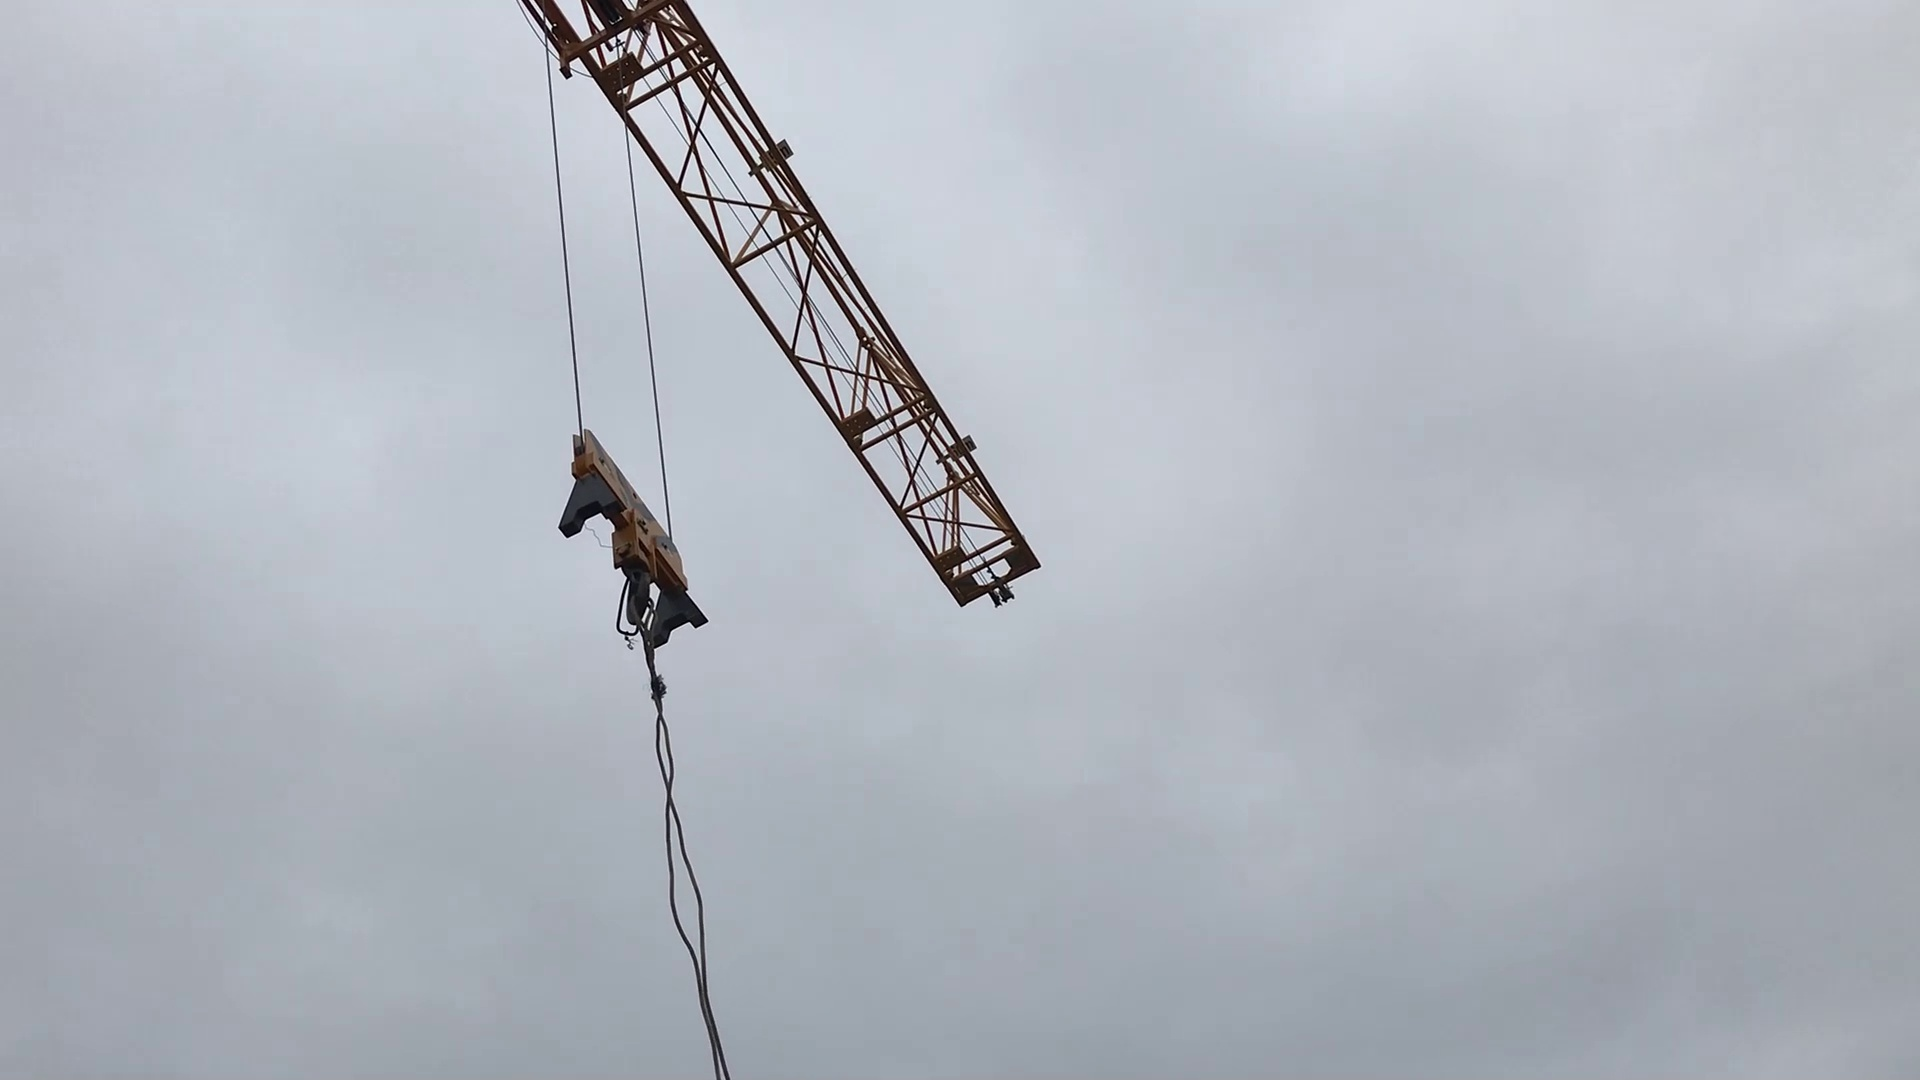hook: (535, 411, 746, 659)
